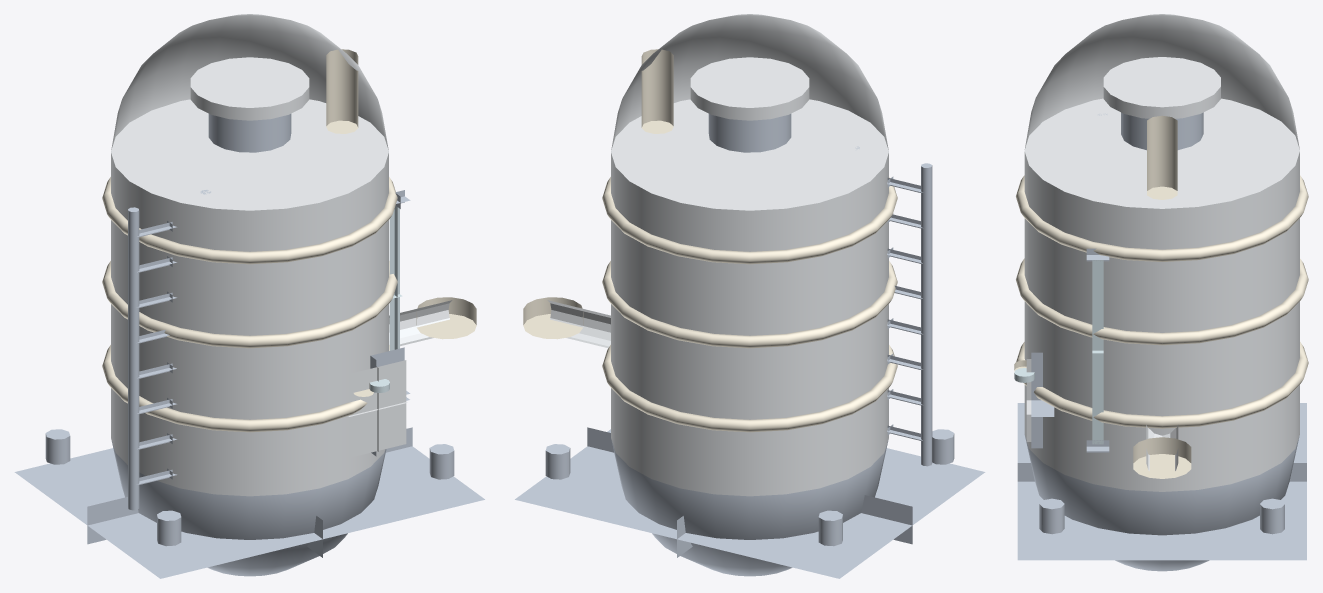
The model's file is tank.gltf.
3 renders of one model, left to right at view 1: azimuth 30°, elevation 25°; view 2: azimuth 150°, elevation 25°; view 3: azimuth 270°, elevation 25°, orthographic.
Visible parts, largest first — view 1: tank; view 2: tank; view 3: tank.
Part boxes in pixels (left/top/right/bottom): tank: left=14, top=14, right=484, bottom=578; tank: left=515, top=14, right=985, bottom=578; tank: left=1014, top=14, right=1308, bottom=571.
Size of the model in its own units: 1.92 by 2.56 by 1.28.
